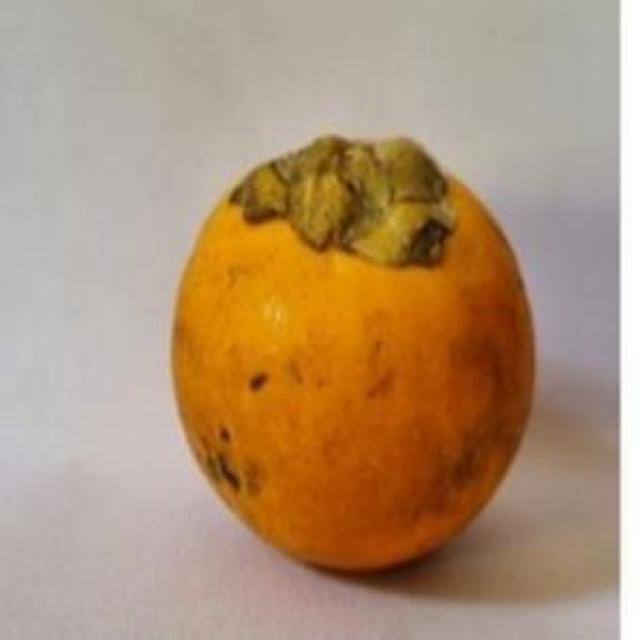good: (169, 135, 537, 578)
